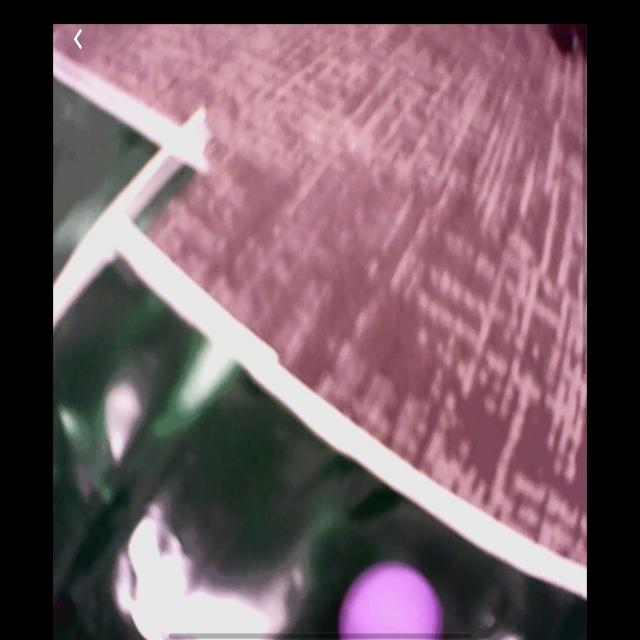ball: (338, 560, 446, 639)
